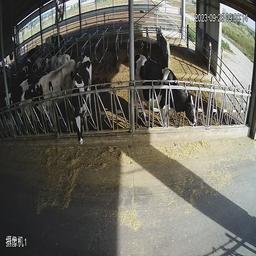cow: (134, 46, 197, 148), (72, 49, 100, 166), (26, 63, 77, 125), (6, 69, 28, 145), (42, 45, 73, 73), (21, 39, 43, 67), (47, 24, 73, 45)
